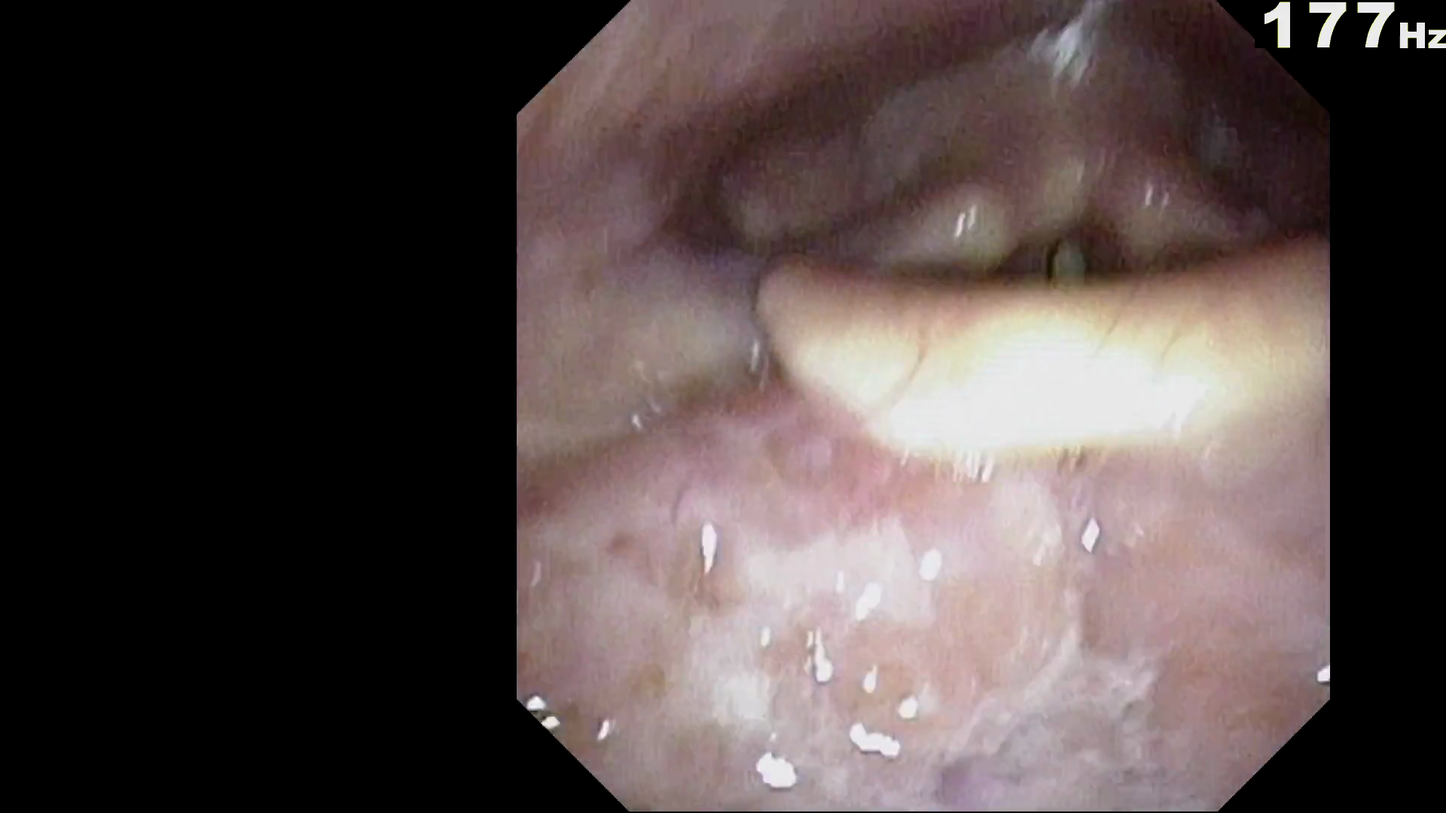epiglottis: (739, 223, 1313, 505)
trachea: (989, 158, 1135, 313)
